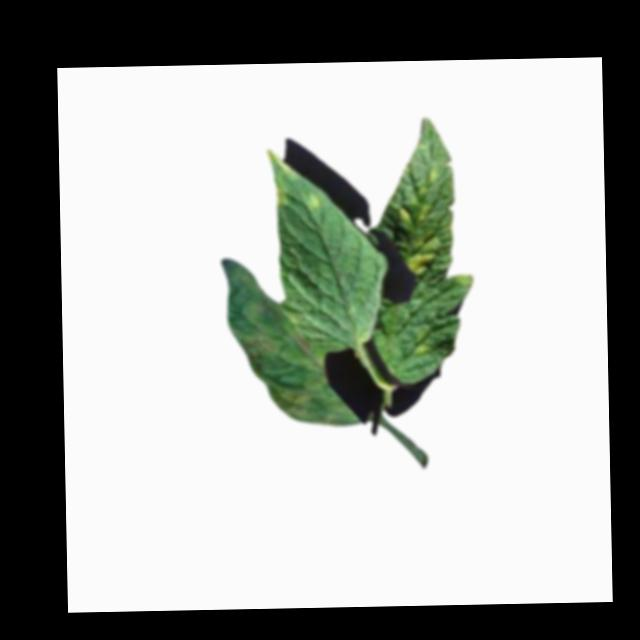Leaf_Mold: (263, 144, 321, 212), (230, 325, 277, 379), (272, 380, 328, 424), (406, 246, 439, 280)
